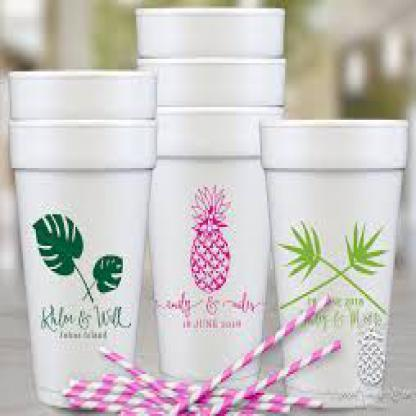paper: (134, 6, 287, 378), (7, 70, 154, 406), (257, 118, 406, 406), (8, 116, 149, 406), (149, 107, 285, 380)
